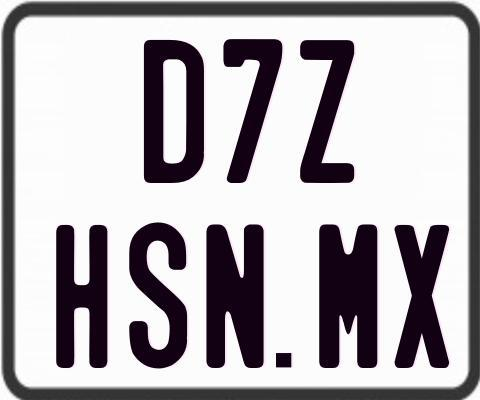7: (221, 38, 286, 183)
D: (141, 39, 203, 187)
H: (56, 225, 109, 373)
M: (316, 224, 375, 368)
N: (206, 224, 267, 369)
S: (127, 220, 187, 370)
X: (392, 223, 447, 367)
Z: (300, 37, 359, 180)
